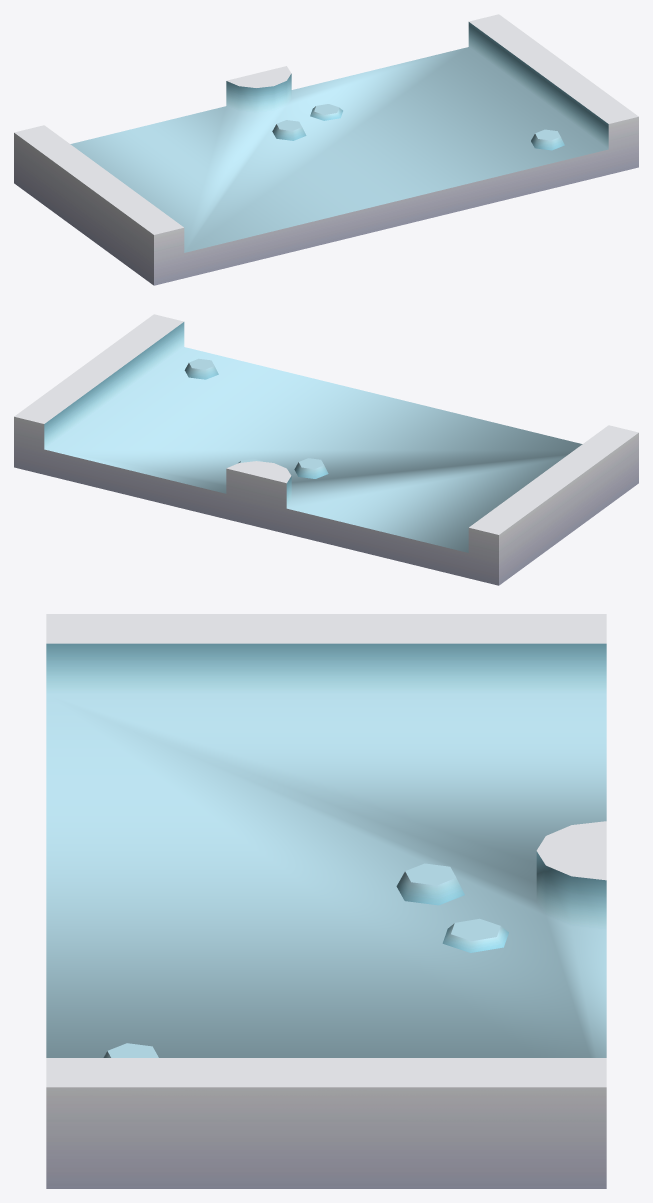
The model's file is kenney-tower-defense-snow-tile-wide-split.glb.
3 renders of one model, top to bottom at view 1: azimuth 30°, elevation 25°; view 2: azimuth 150°, elevation 25°; view 3: azimuth 270°, elevation 25°, orthographic. The views are drawn at different scales.
Visible parts, largest first — view 1: snow-tile-wide-split; view 2: snow-tile-wide-split; view 3: snow-tile-wide-split.
Boxes of the visible parts, left/top/right/bottom form: snow-tile-wide-split: left=14, top=14, right=638, bottom=285; snow-tile-wide-split: left=14, top=314, right=638, bottom=585; snow-tile-wide-split: left=46, top=614, right=606, bottom=1188.
Size of the model in its own units: 2 by 0.2 by 1.
1 material, 1 textured.
